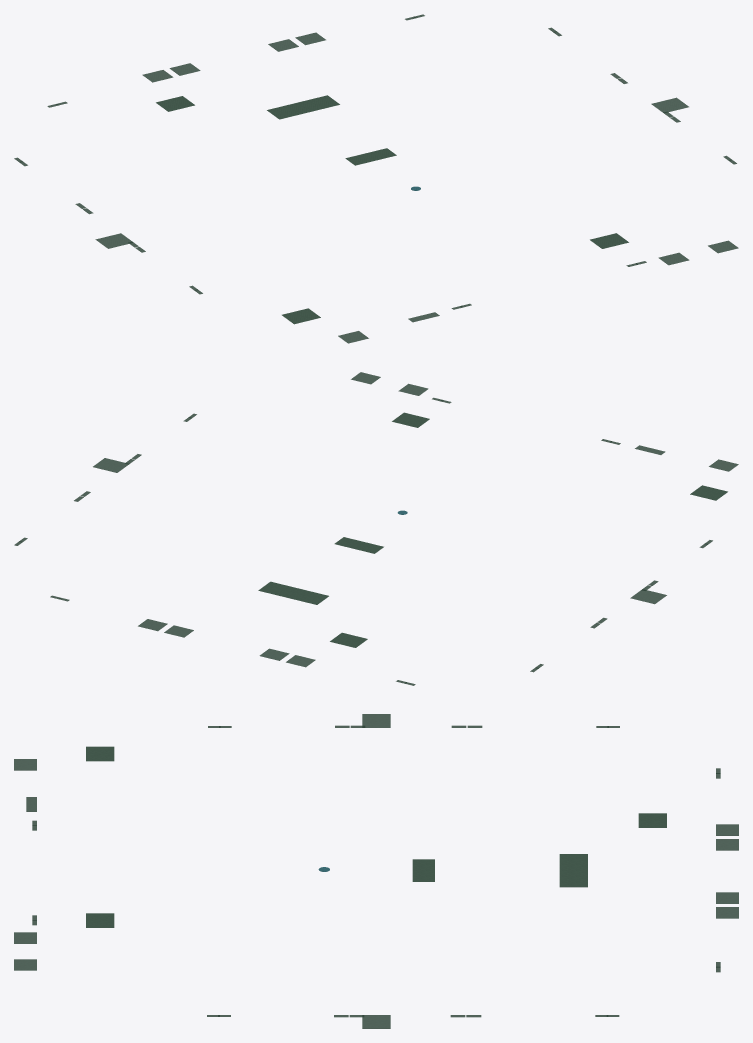
The model's file is city-d.glb.
3 views of the same model, one above another, from view 1: azimuth 30°, elevation 25°; view 2: azimuth 150°, elevation 25°; view 3: azimuth 270°, elevation 25° (orthographic). The views are drawn at different scales.
Parts seen in each view (by area): view 1: city-d; view 2: city-d; view 3: city-d.
Boxes of the visible parts, left/top/right/bottom form: city-d: left=14, top=14, right=738, bottom=343; city-d: left=14, top=372, right=738, bottom=685; city-d: left=14, top=714, right=738, bottom=1028.
Size of the model in its own units: 472 by 1.46 by 459.
3 materials, 3 textured.
